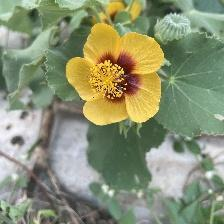indian mallow: (65, 22, 167, 128)
